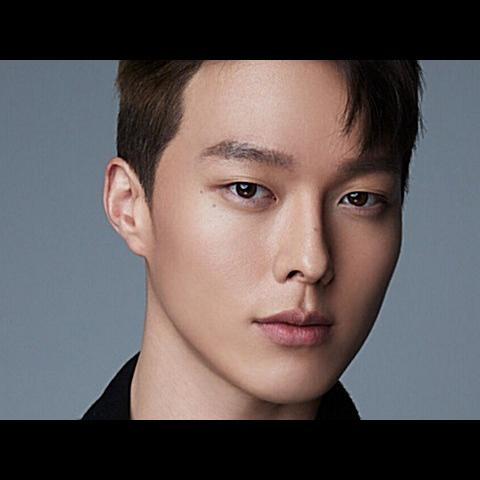opened: (178, 126, 402, 235)
